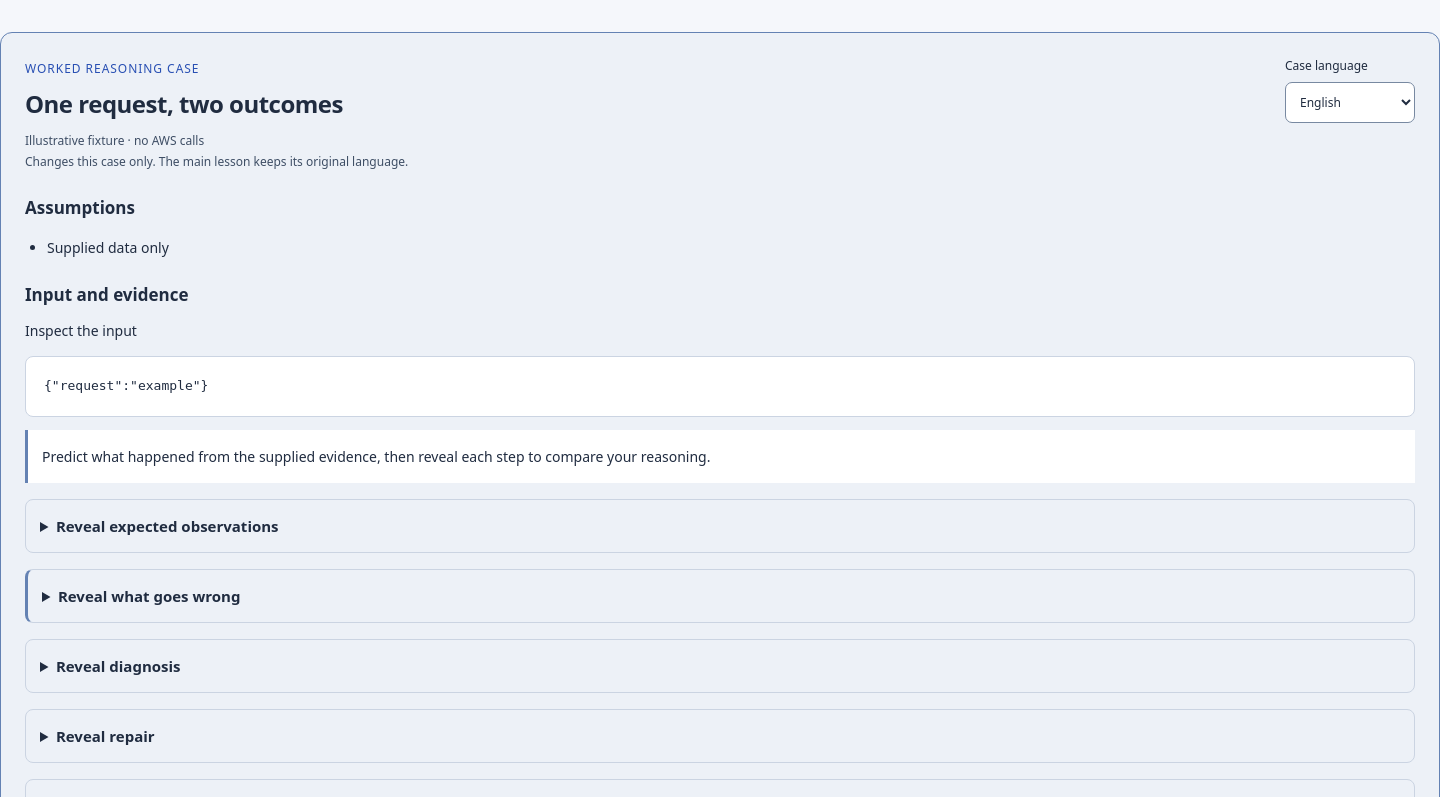
Test: keeps language selection usable when browser persistence fails
The width and height of the screenshot is (1440, 797).
Select "Tiếng Việt" in the dropdown named "Worked case language" at (1350, 102), box [1285,82,1415,123]
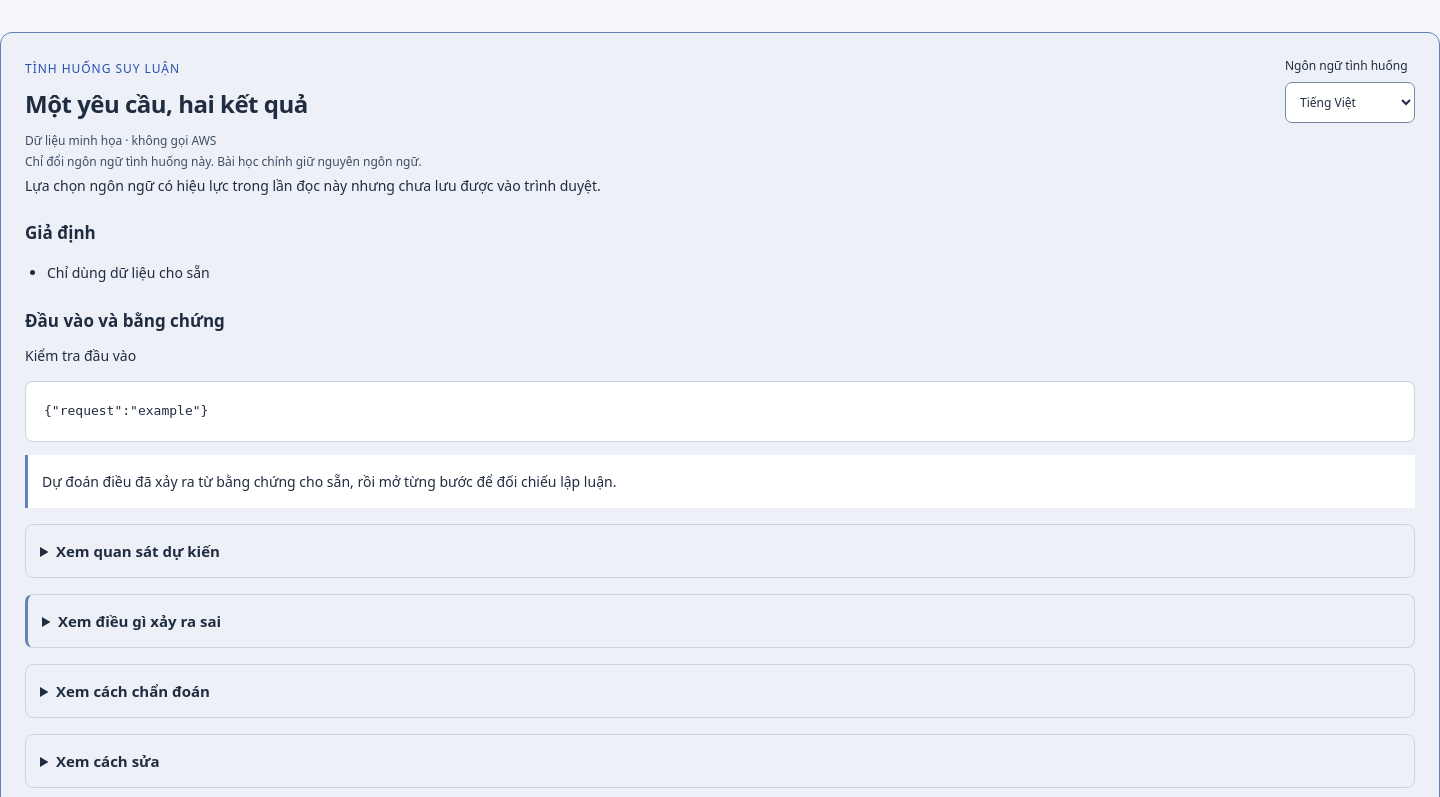
Now the heading "Một yêu cầu, hai kết quả" is shown, box [25,87,308,121]
Now the message shows "chưa lưu được", box [25,176,601,195]
